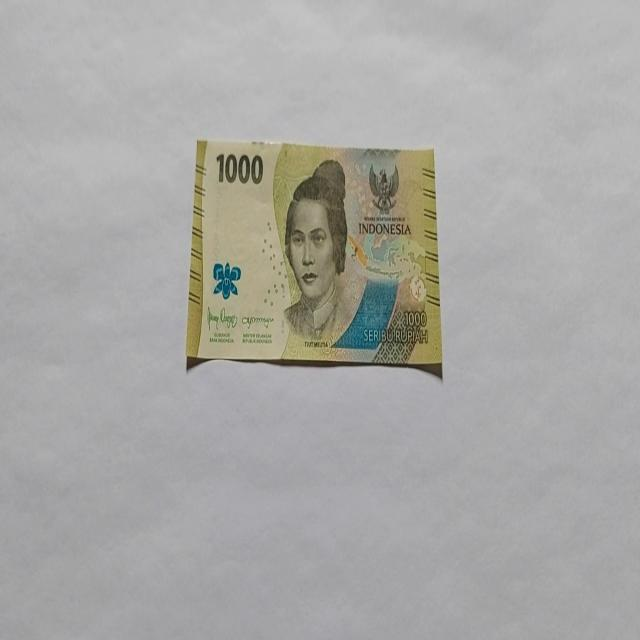seribu rupiah kertas: (185, 137, 443, 378)
